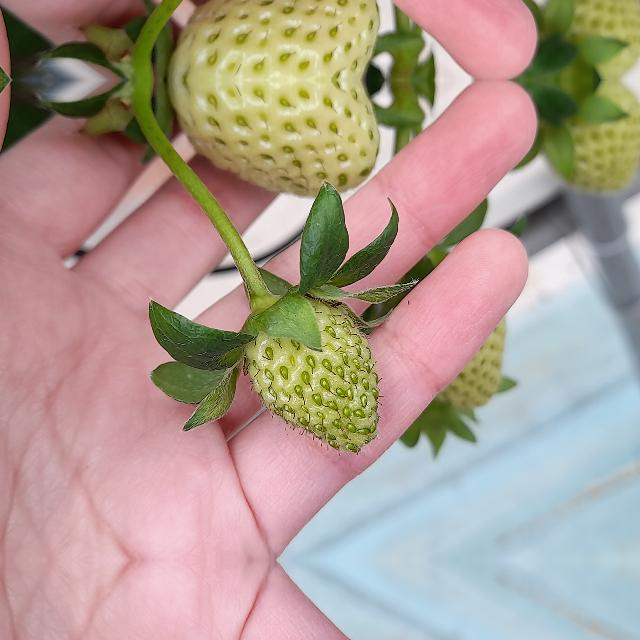Health_25: (164, 80, 384, 200), (244, 294, 378, 452), (164, 0, 384, 80)
